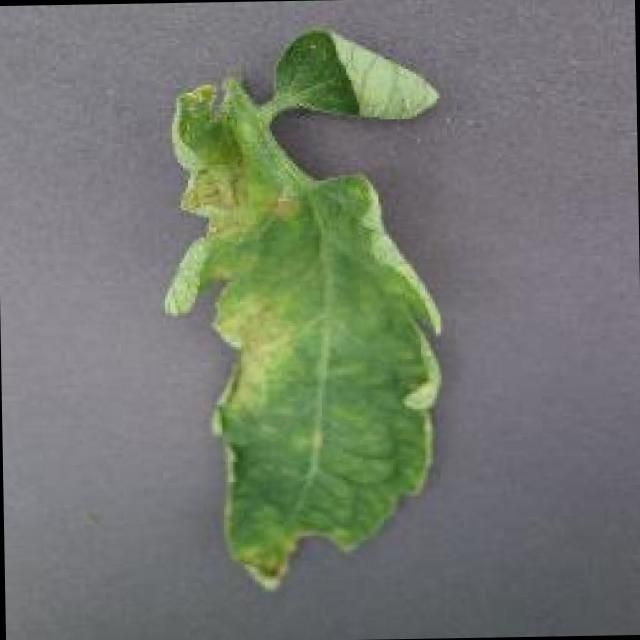Tomato_Late_Blight: (158, 100, 314, 422)
